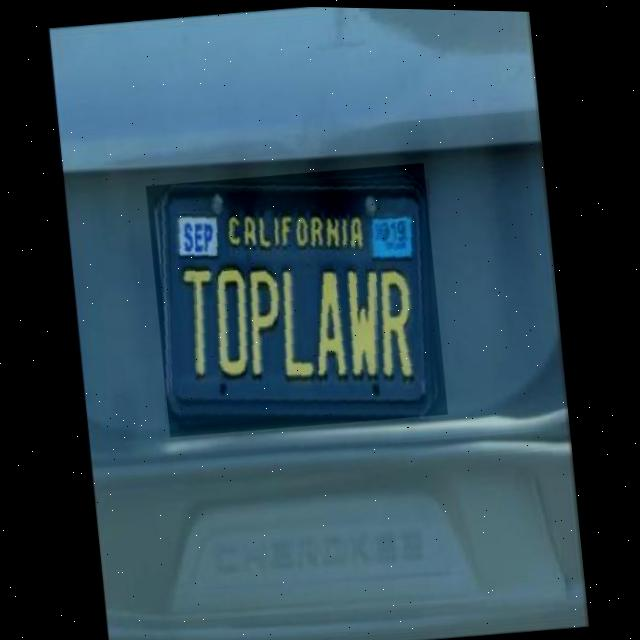LicensePlate: (144, 156, 450, 441)
